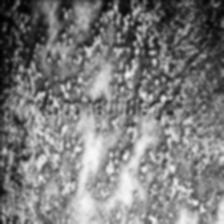Non-Cancerous Skin Condition: (0, 0, 55, 224)
